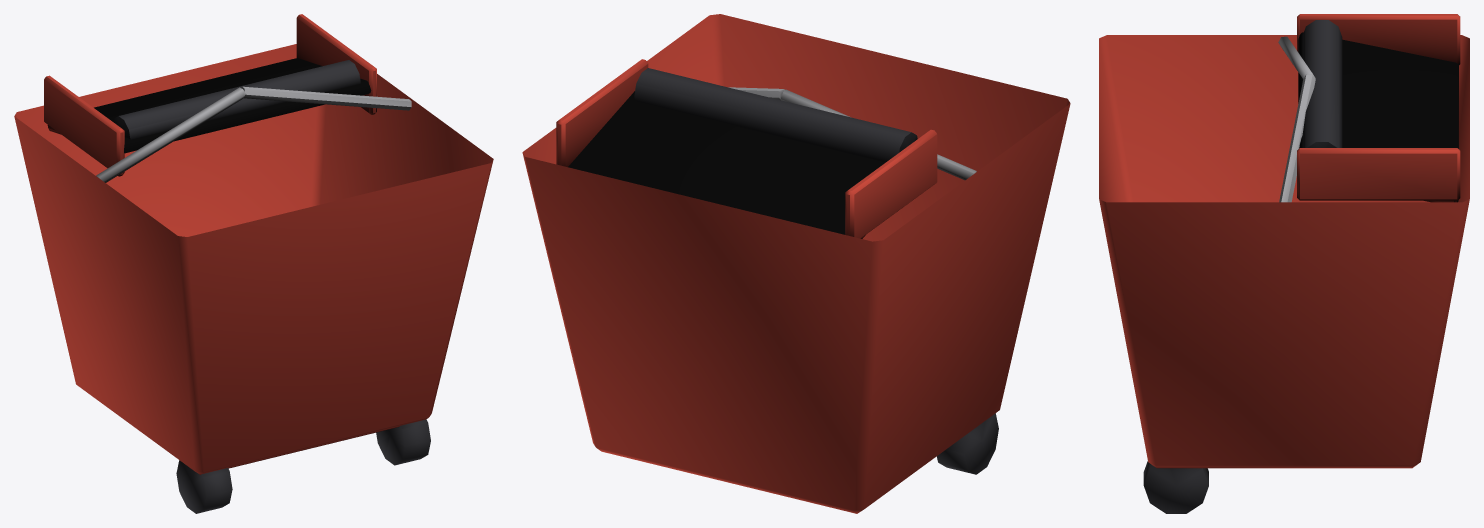
Rendered from mop_bucket.glb.
The picture shows the model from 3 angles, left to right: view 1: azimuth 30°, elevation 25°; view 2: azimuth 150°, elevation 25°; view 3: azimuth 270°, elevation 25°; orthographic projection. The views are drawn at different scales.
Parts seen in each view (by area): view 1: bucket, wringer_plate, roller, wringer_side_-1, wringer_side_1, castor_-1, bail_l, bail_r, castor_1; view 2: bucket, wringer_plate, roller, wringer_side_-1, wringer_side_1, castor_-1, bail_r; view 3: bucket, wringer_plate, wringer_side_1, wringer_side_-1, roller, castor_1, bail_l, bail_r.
Boxes of the visible parts, bbox=[...] form: bucket: bbox=[14, 44, 493, 474]; wringer_plate: bbox=[47, 58, 371, 153]; roller: bbox=[113, 60, 360, 139]; wringer_side_-1: bbox=[44, 75, 124, 176]; wringer_side_1: bbox=[296, 14, 376, 114]; castor_-1: bbox=[176, 460, 232, 513]; bail_l: bbox=[241, 86, 411, 110]; bail_r: bbox=[96, 87, 245, 182]; castor_1: bbox=[376, 419, 430, 465]; bucket: bbox=[522, 14, 1070, 513]; wringer_plate: bbox=[568, 91, 885, 238]; roller: bbox=[634, 68, 917, 162]; wringer_side_-1: bbox=[845, 129, 937, 238]; wringer_side_1: bbox=[556, 59, 648, 167]; castor_-1: bbox=[937, 413, 998, 474]; bail_r: bbox=[780, 89, 976, 180]; bucket: bbox=[1099, 35, 1469, 468]; wringer_plate: bbox=[1298, 32, 1458, 202]; wringer_side_1: bbox=[1297, 148, 1460, 200]; wringer_side_-1: bbox=[1297, 14, 1460, 64]; roller: bbox=[1302, 20, 1342, 147]; castor_1: bbox=[1143, 461, 1208, 513]; bail_l: bbox=[1279, 74, 1315, 202]; bail_r: bbox=[1278, 36, 1315, 78].
Size of the model in its own units: 0.315 by 0.3339 by 0.295.
